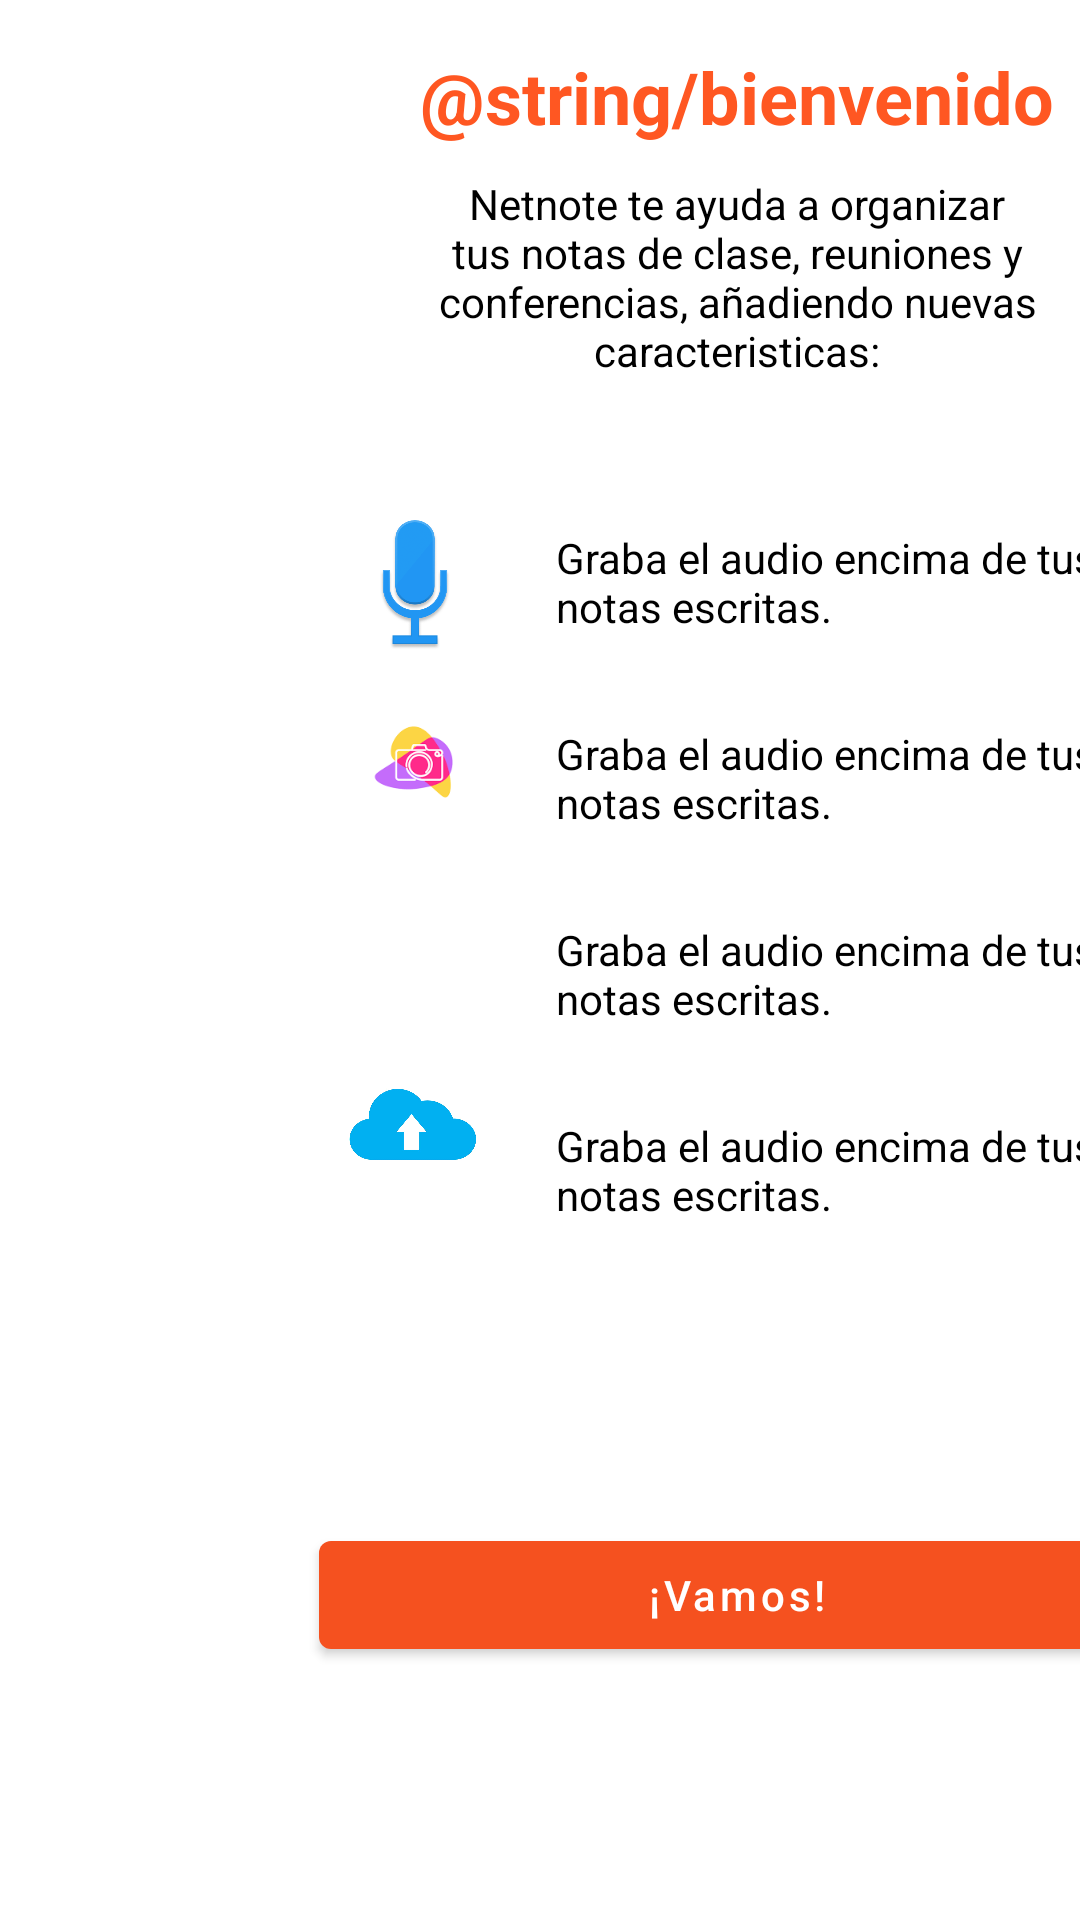

Screen size 1080px×1920px. Icon name, then its center in pixels as [x,y]:
camara: [413,762]
nube: [412,1124]
